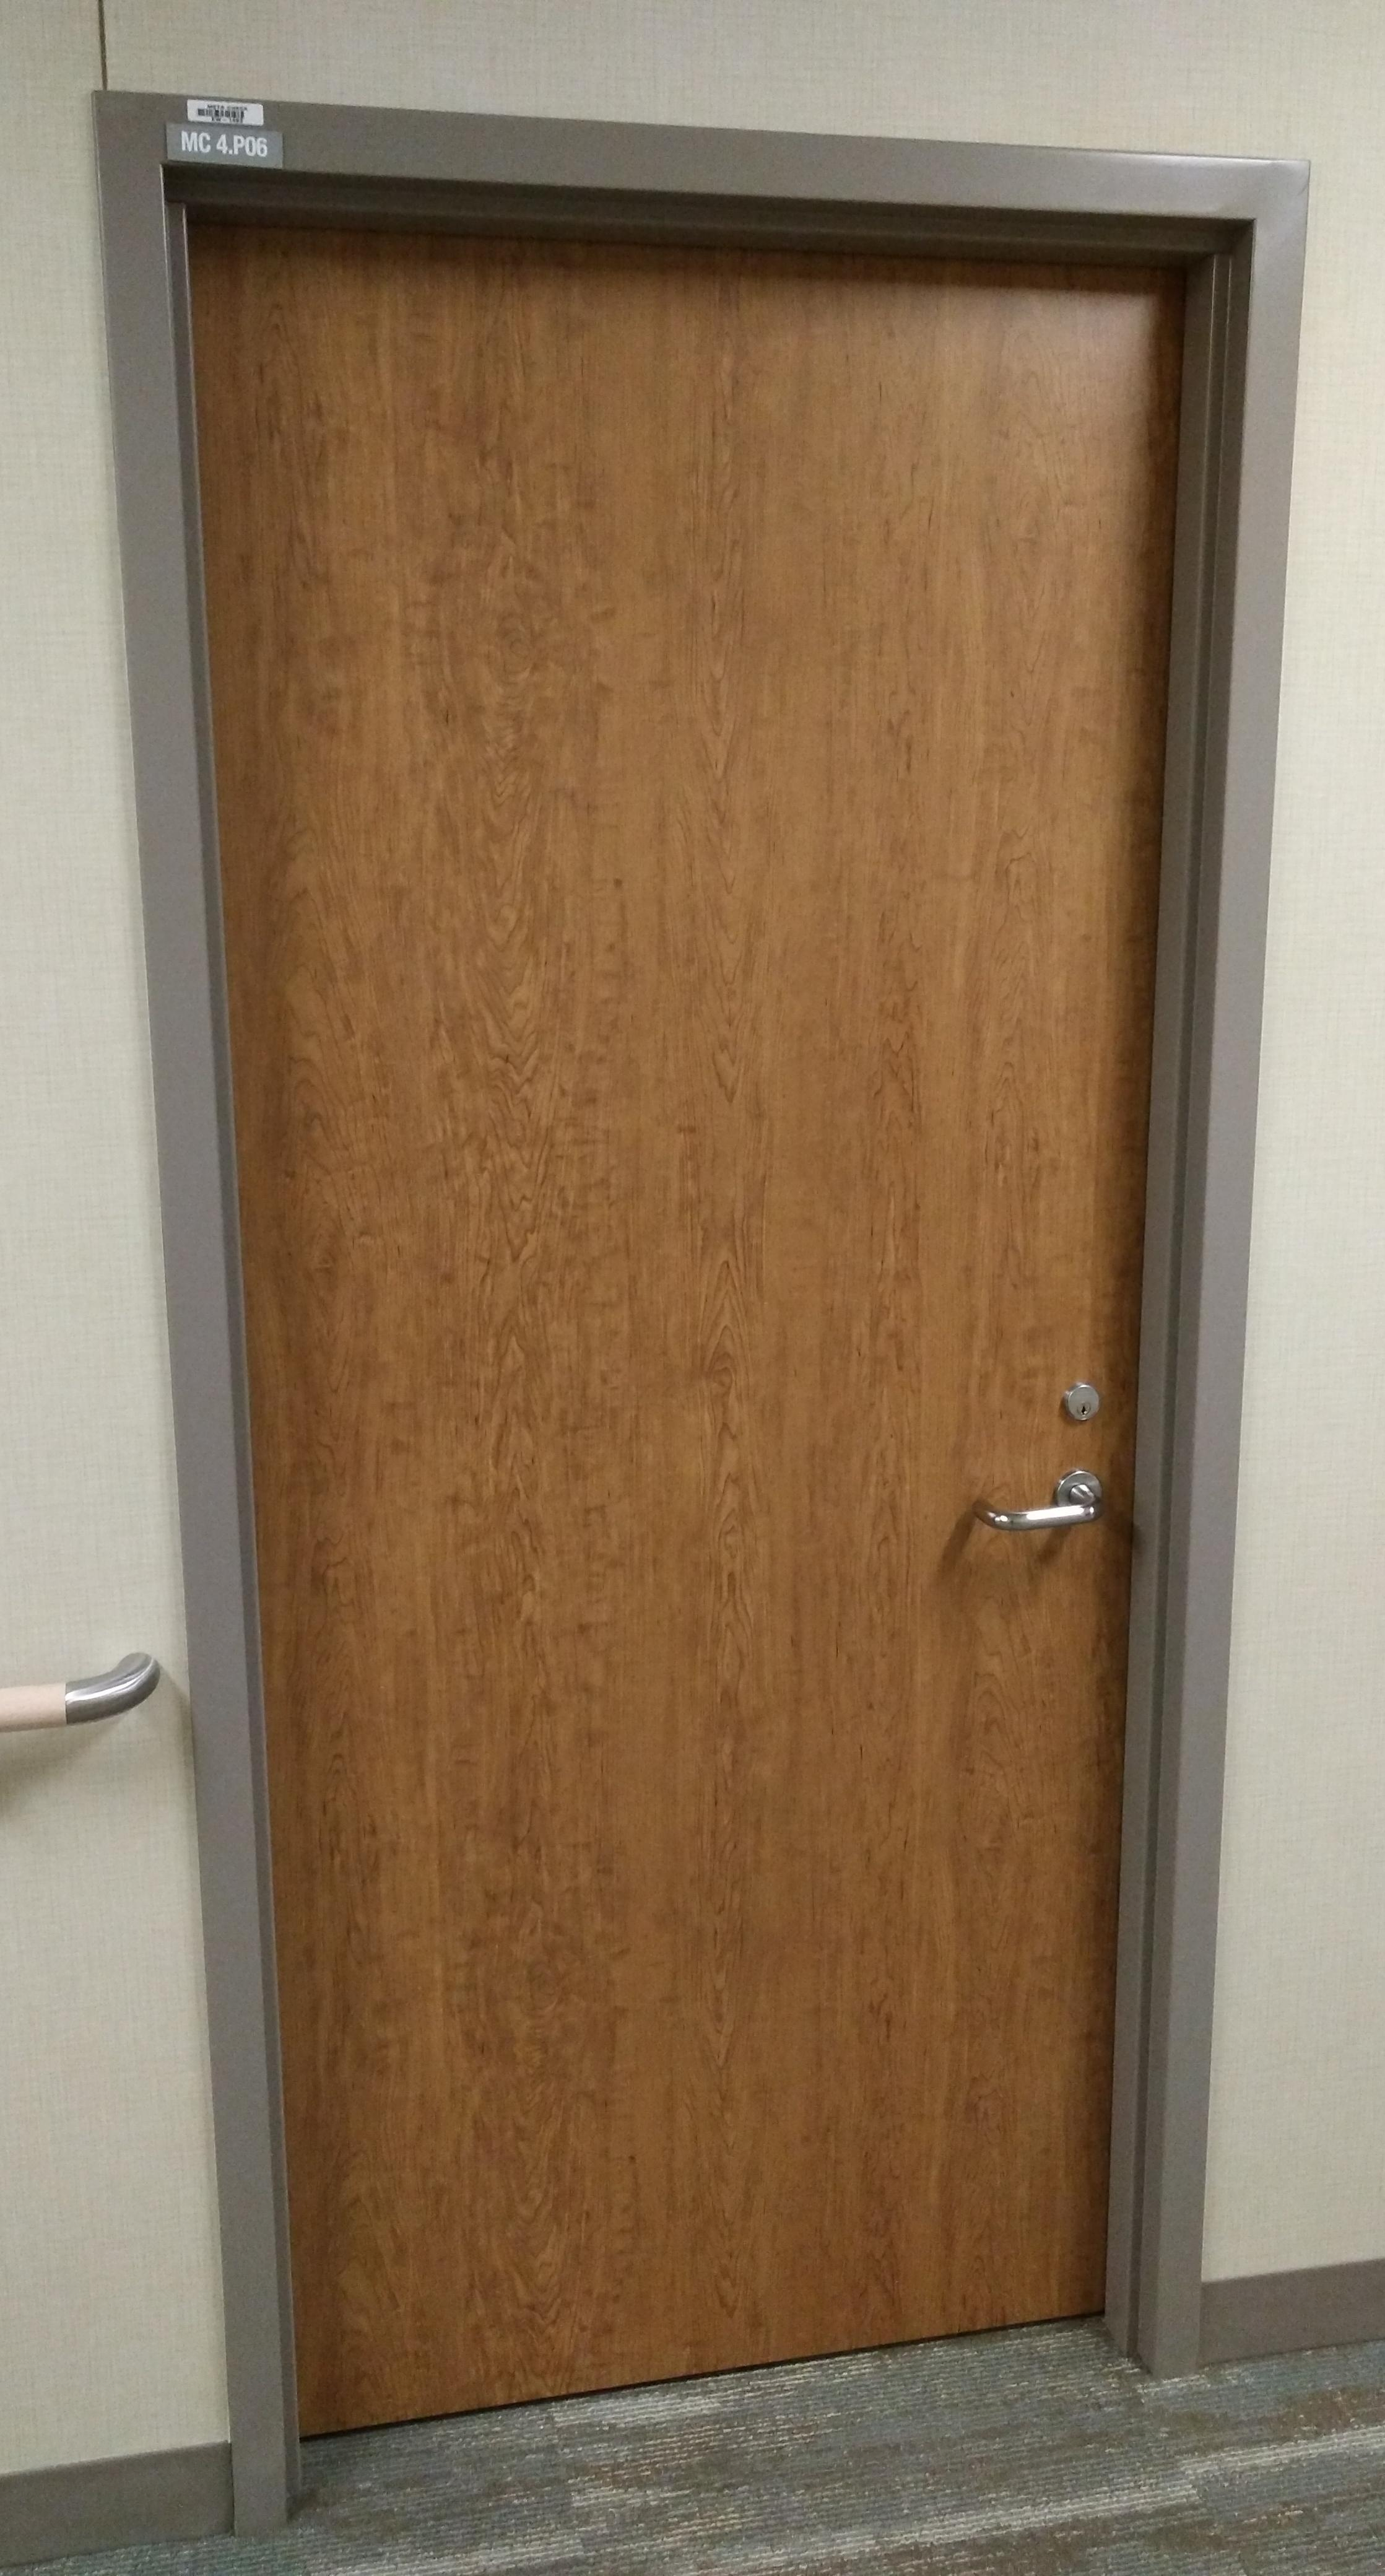door: (155, 109, 1260, 2407)
